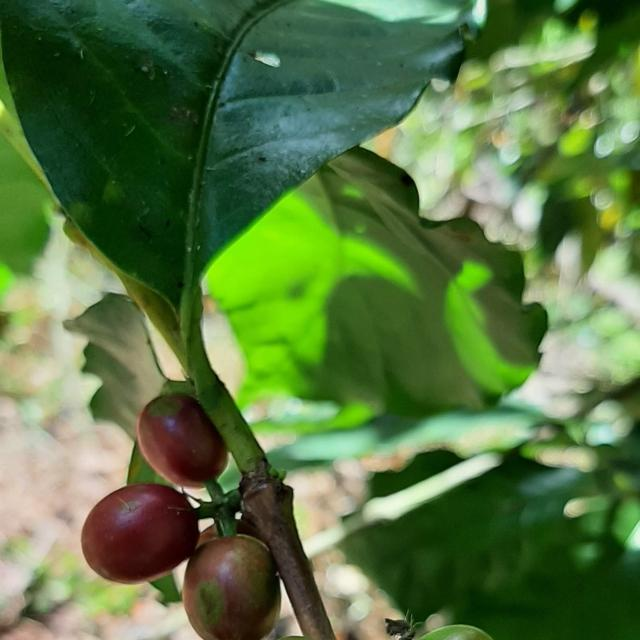red: (81, 484, 199, 585)
yellow: (182, 535, 281, 640), (136, 395, 227, 488)
